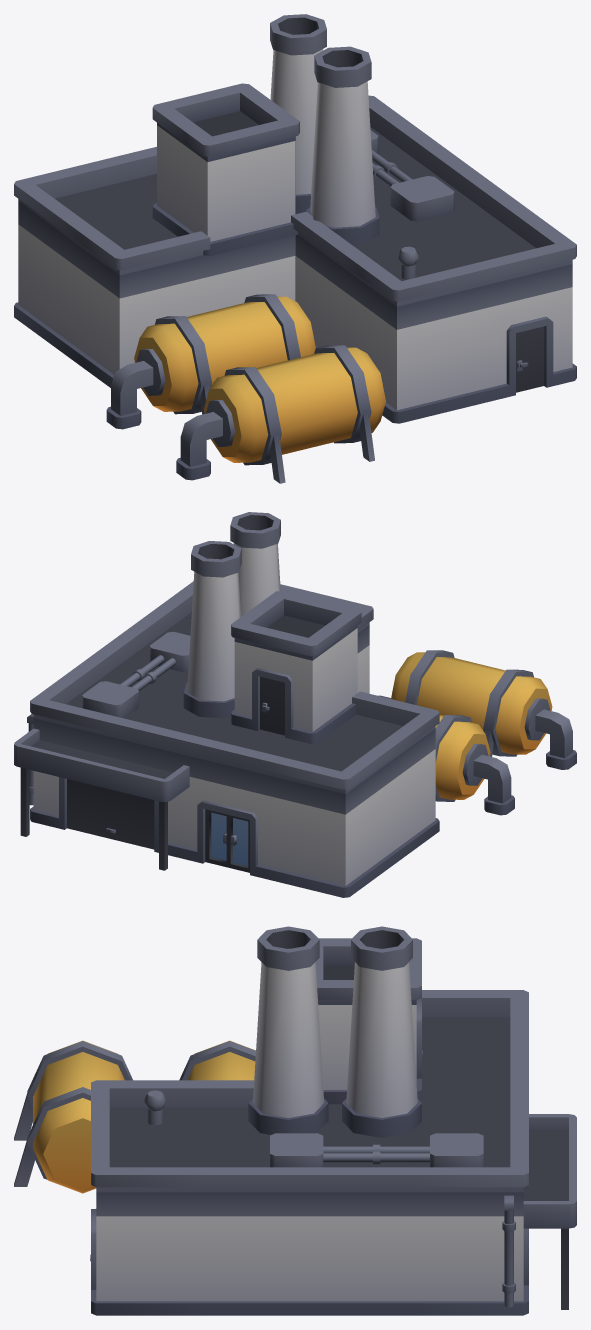
Rendered from building-c.glb.
The picture shows the model from 3 angles, top to bottom: view 1: azimuth 30°, elevation 25°; view 2: azimuth 150°, elevation 25°; view 3: azimuth 270°, elevation 25°; orthographic projection. The views are drawn at different scales.
Parts seen in each view (by area): view 1: building-c; view 2: building-c; view 3: building-c.
Part boxes in pixels (box(x1,y1,x2,y2)): building-c: box(14, 14, 576, 483); building-c: box(14, 512, 576, 897); building-c: box(14, 926, 576, 1315).
Size of the model in its own units: 1.88 by 1.25 by 2.11.
